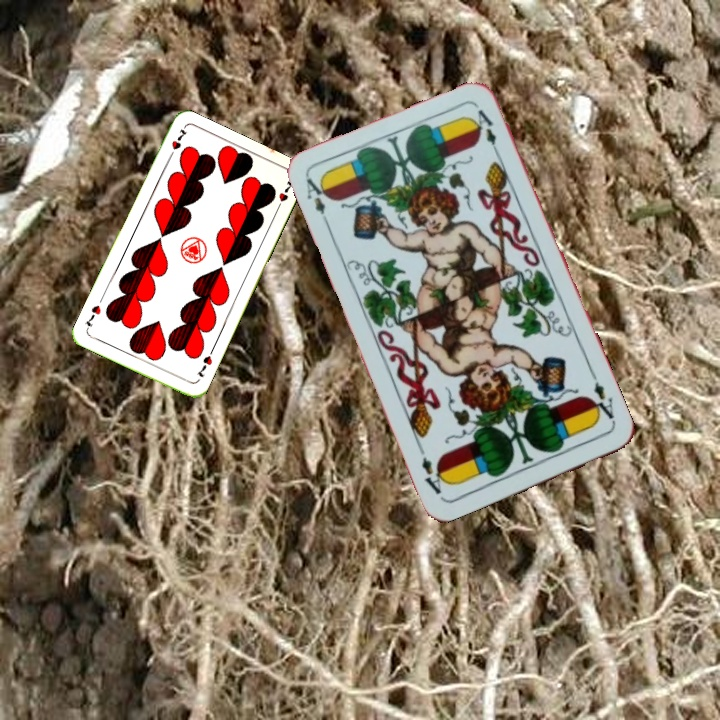EA: (302, 172, 334, 230), (585, 378, 618, 427)
H7: (164, 125, 189, 162), (193, 351, 215, 380)
